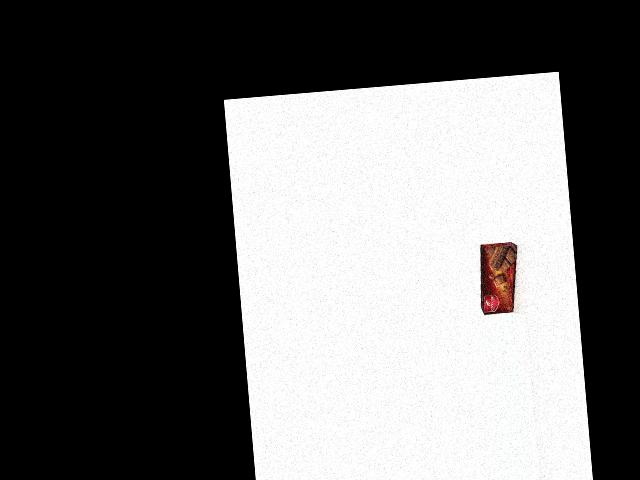chocolate: (475, 242, 523, 315)
